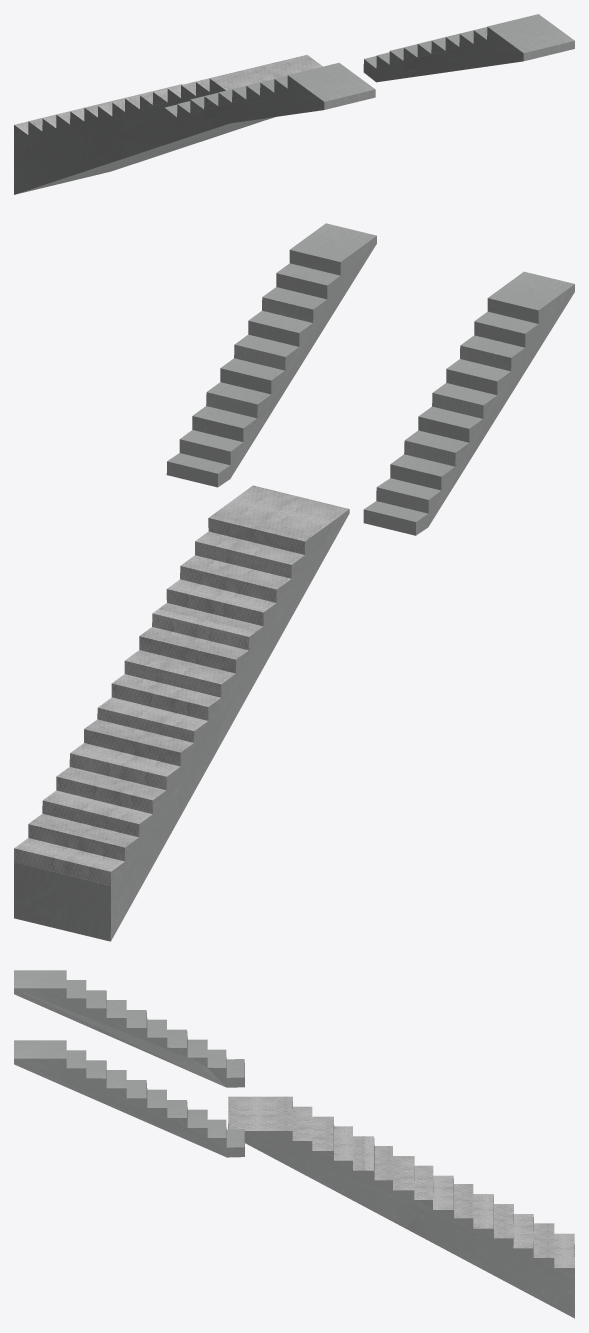
The model's file is Stair_04_Ufa.FBX.
3 views of the same model, one above another, from view 1: azimuth 30°, elevation 25°; view 2: azimuth 150°, elevation 25°; view 3: azimuth 270°, elevation 25° (orthographic). The views are drawn at different scales.
Visible parts, largest first — view 1: Stair_04_Ufa; view 2: Stair_04_Ufa; view 3: Stair_04_Ufa.
Part boxes in pixels (<box>): Stair_04_Ufa: <box>14,14,574,194</box>; Stair_04_Ufa: <box>14,223,574,941</box>; Stair_04_Ufa: <box>14,970,574,1318</box>.
Bounding box in the file's own units: 4.61 × 6.97 × 12.38.
